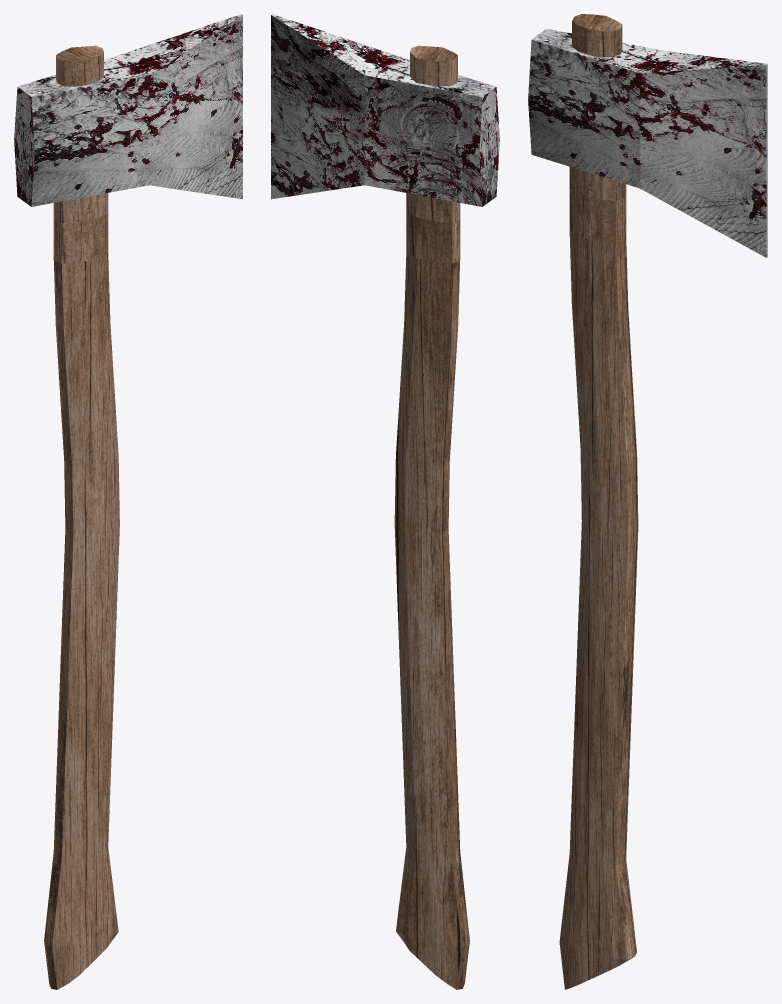
Rendered from bloody axe.fbx.
3 renders of one model, left to right at view 1: azimuth 30°, elevation 25°; view 2: azimuth 150°, elevation 25°; view 3: azimuth 330°, elevation 25°, orthographic. The views are drawn at different scales.
Parts seen in each view (by area): view 1: Cube; view 2: Cube; view 3: Cube.
Boxes of the visible parts, x1,y1,x2,y2 form: Cube: [14, 14, 242, 989]; Cube: [271, 14, 499, 989]; Cube: [528, 14, 767, 989].
Size of the model in its own units: 604 by 2459 by 137.
